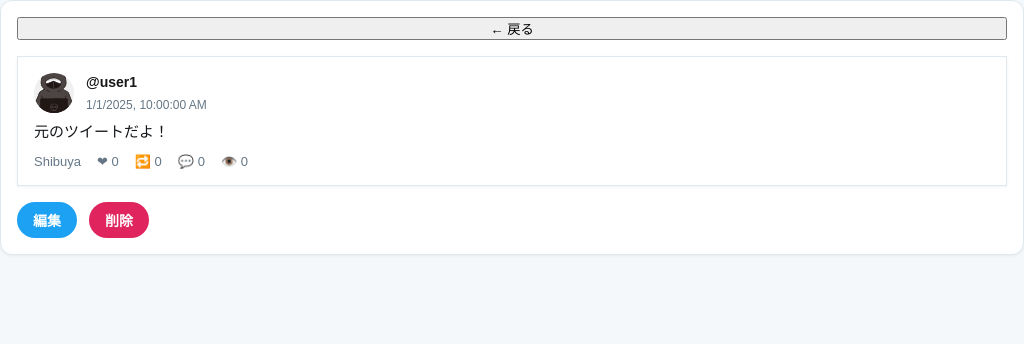
TweetDetail 編集テスト › 保存失敗時はエラーメッセージが表示される
Click the button "編集". click: (47, 220)
box: [17,202,77,238]
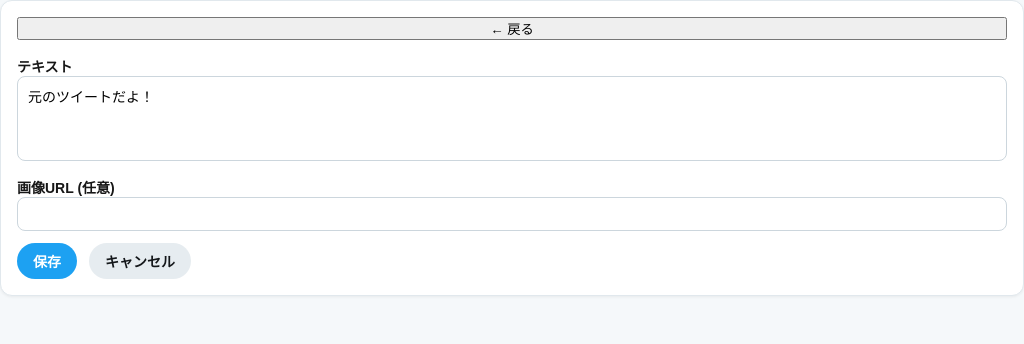
Replace the text in the text box labelled "テキスト" with "失敗ケース". click: (512, 118)
box: [17,76,1007,161]
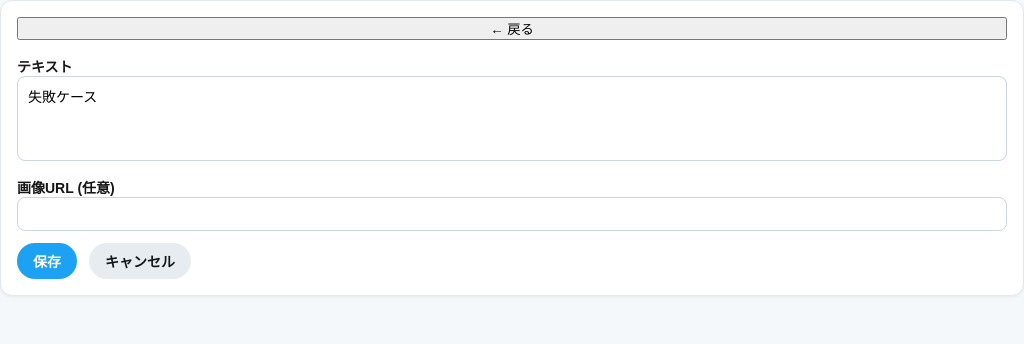
Click the button "保存". click: (47, 261)
box: [17,243,77,279]
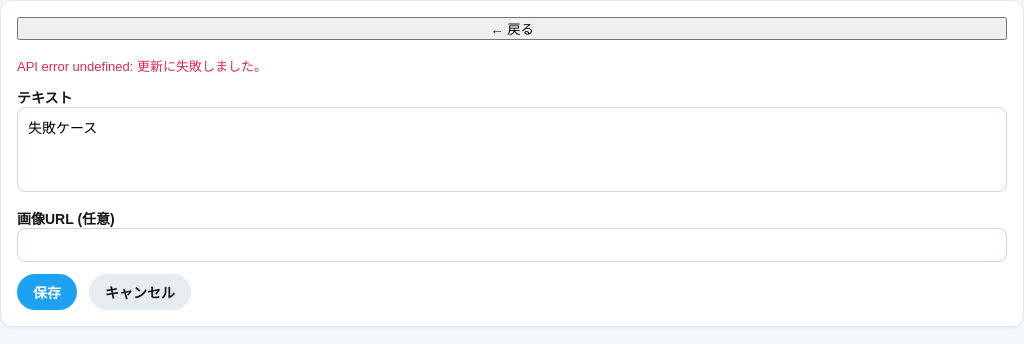
expect the text "更新に失敗しました。" is shown: met, box [17,59,267,74]
